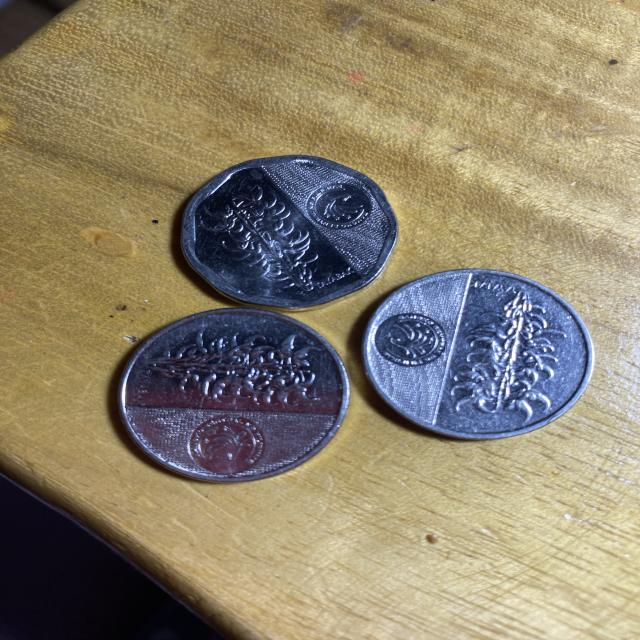5_New_Back: (455, 279, 559, 426), (197, 188, 321, 294), (146, 334, 313, 406)
